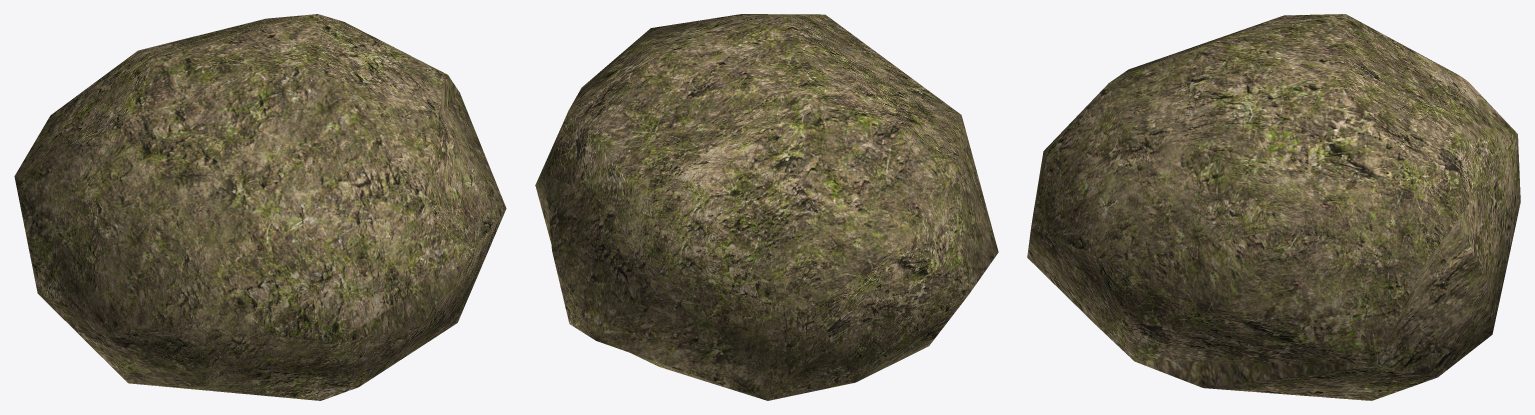
The model's file is Stone01.FBX.
3 renders of one model, left to right at view 1: azimuth 30°, elevation 25°; view 2: azimuth 150°, elevation 25°; view 3: azimuth 270°, elevation 25°, orthographic. The views are drawn at different scales.
Parts seen in each view (by area): view 1: Stone01; view 2: Stone01; view 3: Stone01.
Part boxes in pixels (box(x1,y1,x2,y2)): Stone01: box(14, 14, 506, 400); Stone01: box(535, 14, 998, 400); Stone01: box(1027, 14, 1520, 400).
Bounding box in the file's own units: 593 × 463 × 591.
